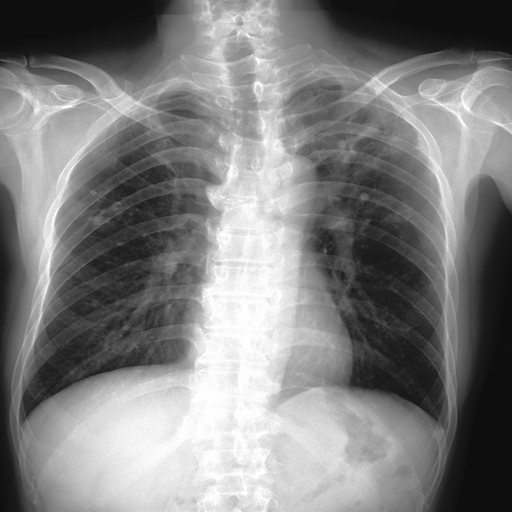Infiltration: (310, 104, 418, 216)
Lung Opacity: (83, 185, 125, 227)
Pneumothorax: (310, 104, 418, 216), (83, 188, 130, 248), (146, 109, 180, 155), (384, 211, 408, 227), (359, 191, 369, 201), (364, 217, 373, 223)
Pulmonary fibrosis: (359, 191, 369, 201), (364, 217, 373, 223)
